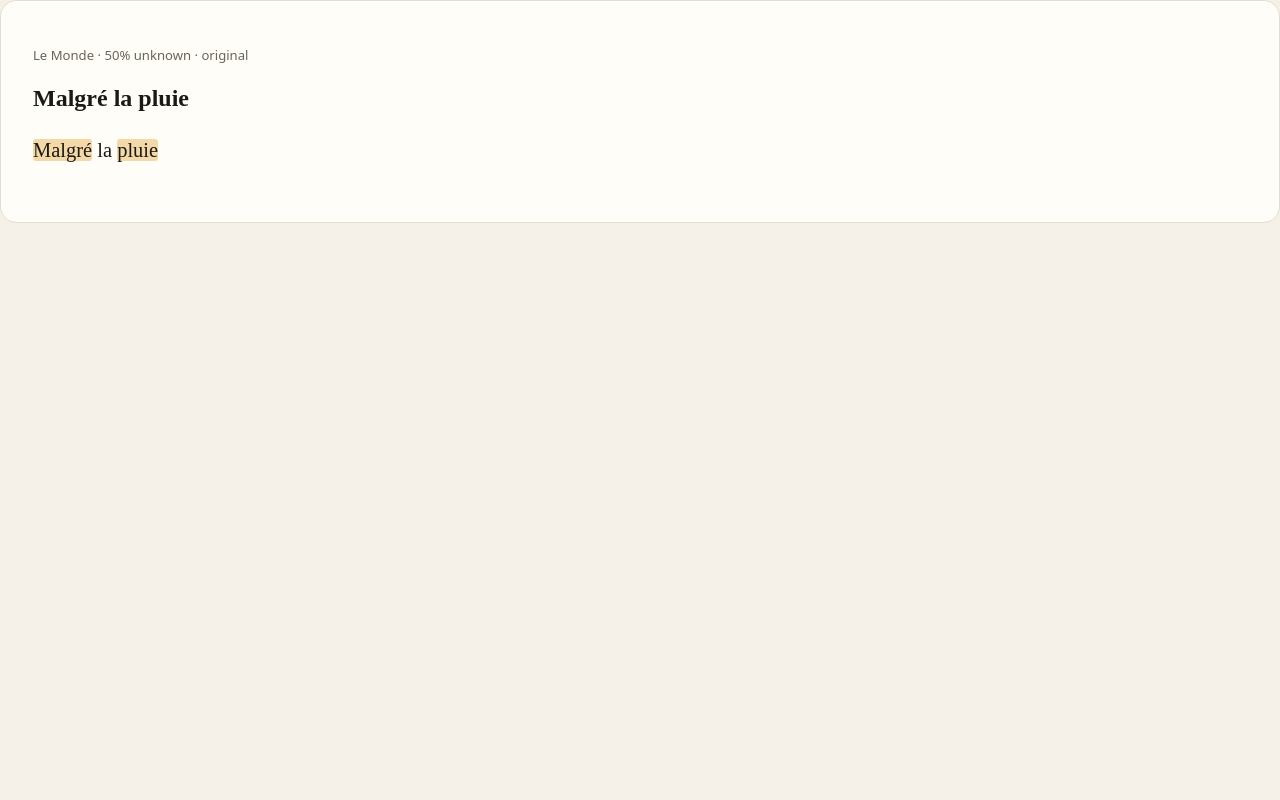
Test: a word is rolled back when saving fails
Click the text "Malgré" at [63, 150], box [33,139,92,161]
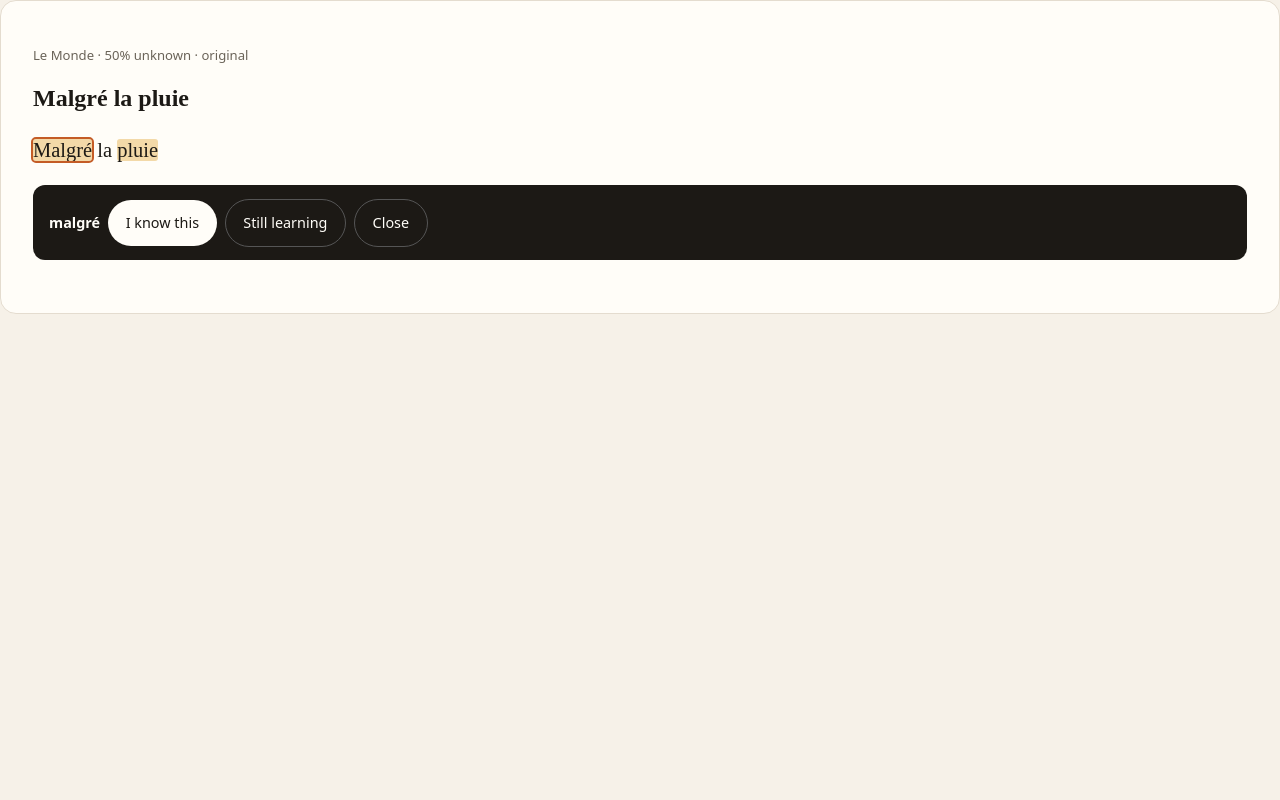
Click the button "I know this" at [162, 223], box [108,200,217,246]
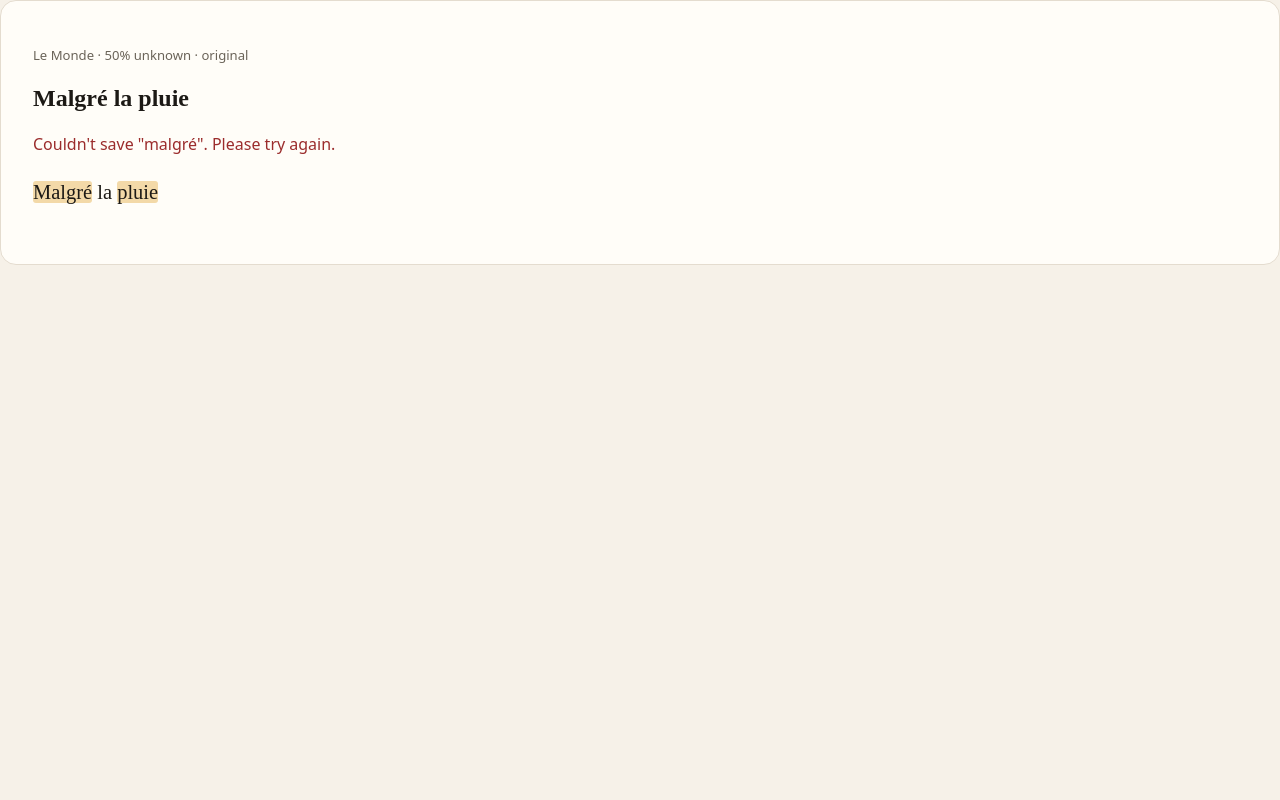
Expected: the text "Couldn't save \"malgré\". Please try again." is shown, [33,133,335,155]
